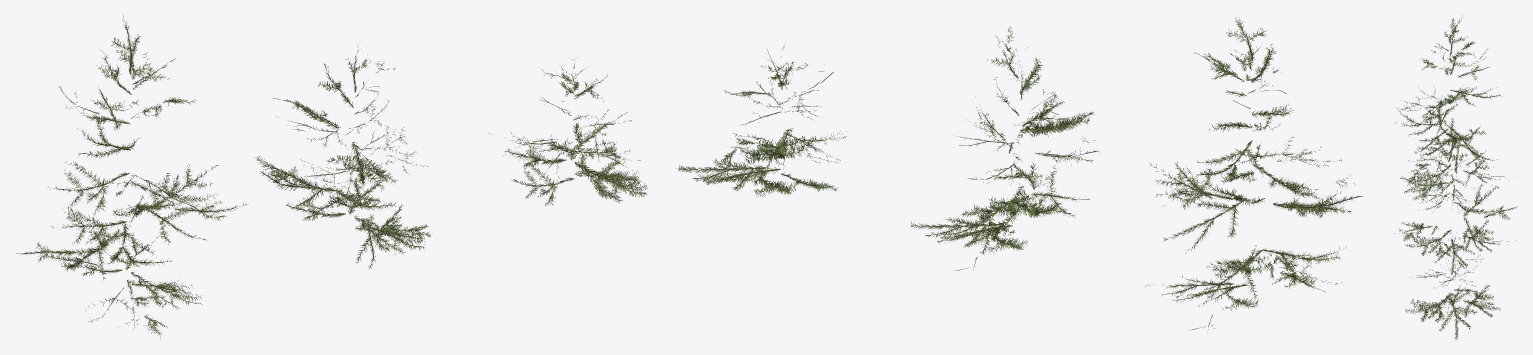
Rendered from fir-sapling.glb.
The picture shows the model from 3 angles, left to right: view 1: azimuth 30°, elevation 25°; view 2: azimuth 150°, elevation 25°; view 3: azimuth 270°, elevation 25°; orthographic projection. The views are drawn at different scales.
Parts seen in each view (by area): view 1: fir_sapling_a, fir_sapling_b, fir_sapling_c; view 2: fir_sapling_a, fir_sapling_b, fir_sapling_c; view 3: fir_sapling_a, fir_sapling_b, fir_sapling_c.
Boxes of the visible parts, bbox=[...] form: fir_sapling_a: bbox=[16, 15, 248, 338]; fir_sapling_b: bbox=[254, 45, 432, 268]; fir_sapling_c: bbox=[488, 58, 647, 206]; fir_sapling_a: bbox=[1145, 18, 1362, 330]; fir_sapling_b: bbox=[910, 26, 1099, 270]; fir_sapling_c: bbox=[676, 42, 846, 197]; fir_sapling_a: bbox=[1395, 14, 1514, 209]; fir_sapling_b: bbox=[1394, 129, 1517, 274]; fir_sapling_c: bbox=[1405, 229, 1500, 340].
Bounding box in the file's own units: 2.73 × 1.27 × 0.8171.
1 material, 1 textured.
